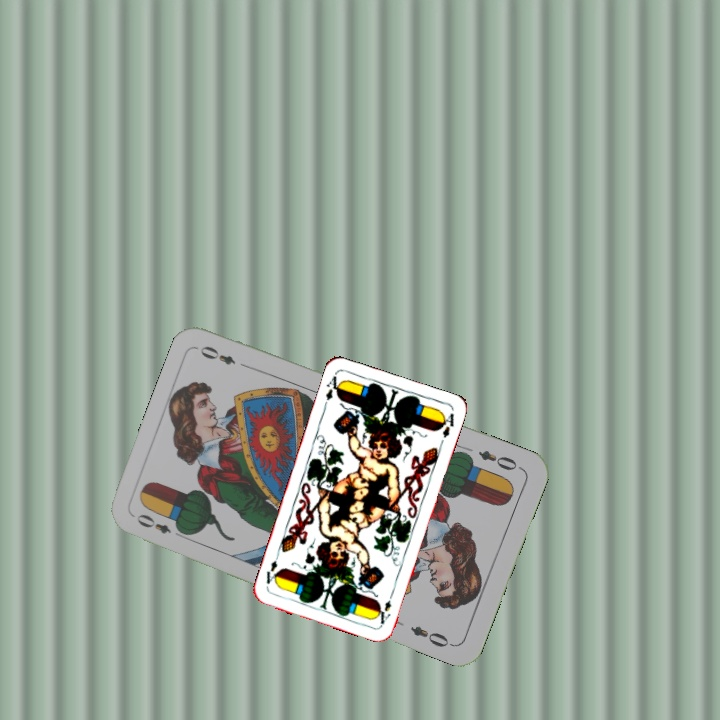EA: (320, 370, 345, 410), (373, 596, 394, 627)
EO: (132, 510, 188, 540), (474, 446, 525, 473)
